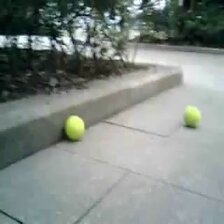tennis: (65, 116, 84, 139), (182, 106, 199, 126)
